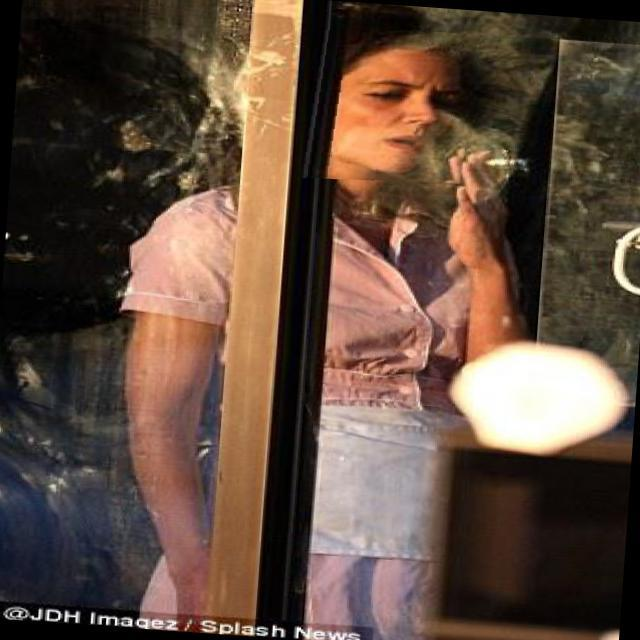cigarette: (469, 147, 540, 175)
